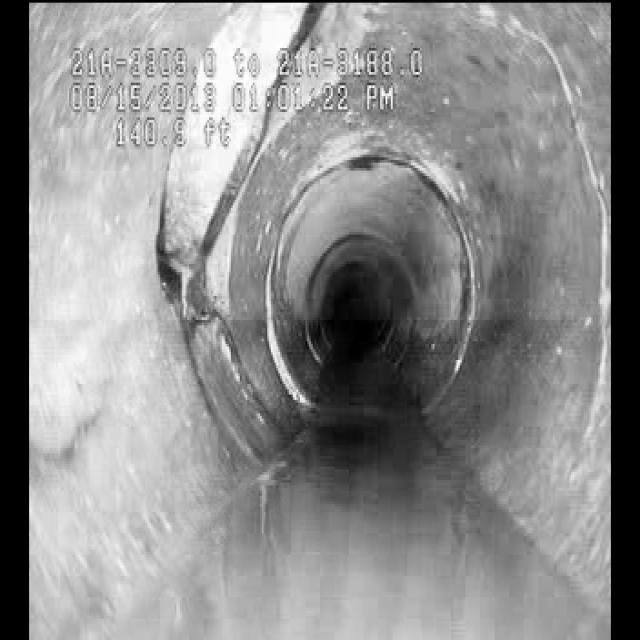Fracture: (148, 218, 268, 416)
